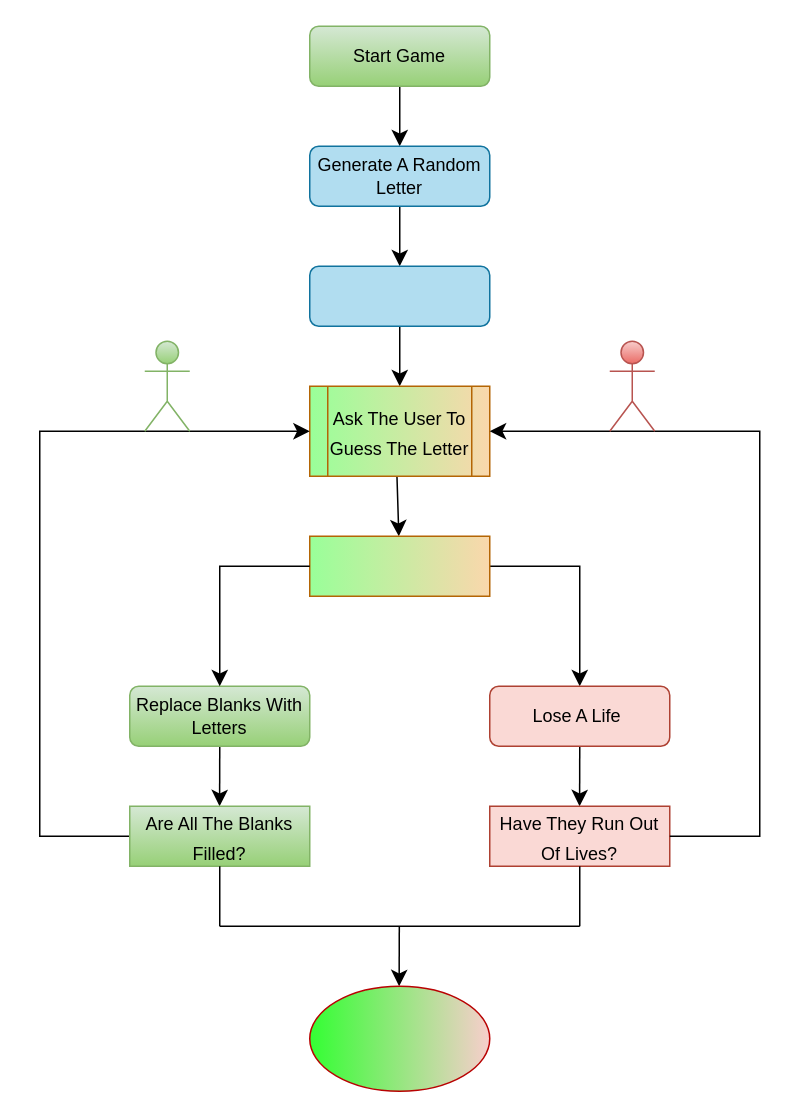
The diagram is 801 pixels wide and 1118 high, and some of its shapes have lost their labels. Here are the shapes that lost their labels. From the top down, the centre of each, then its label:
the point at 399,295: Generate A Random Word
the point at 399,565: Is The Guessed Letter In The Word
the point at 399,1038: Game Over
